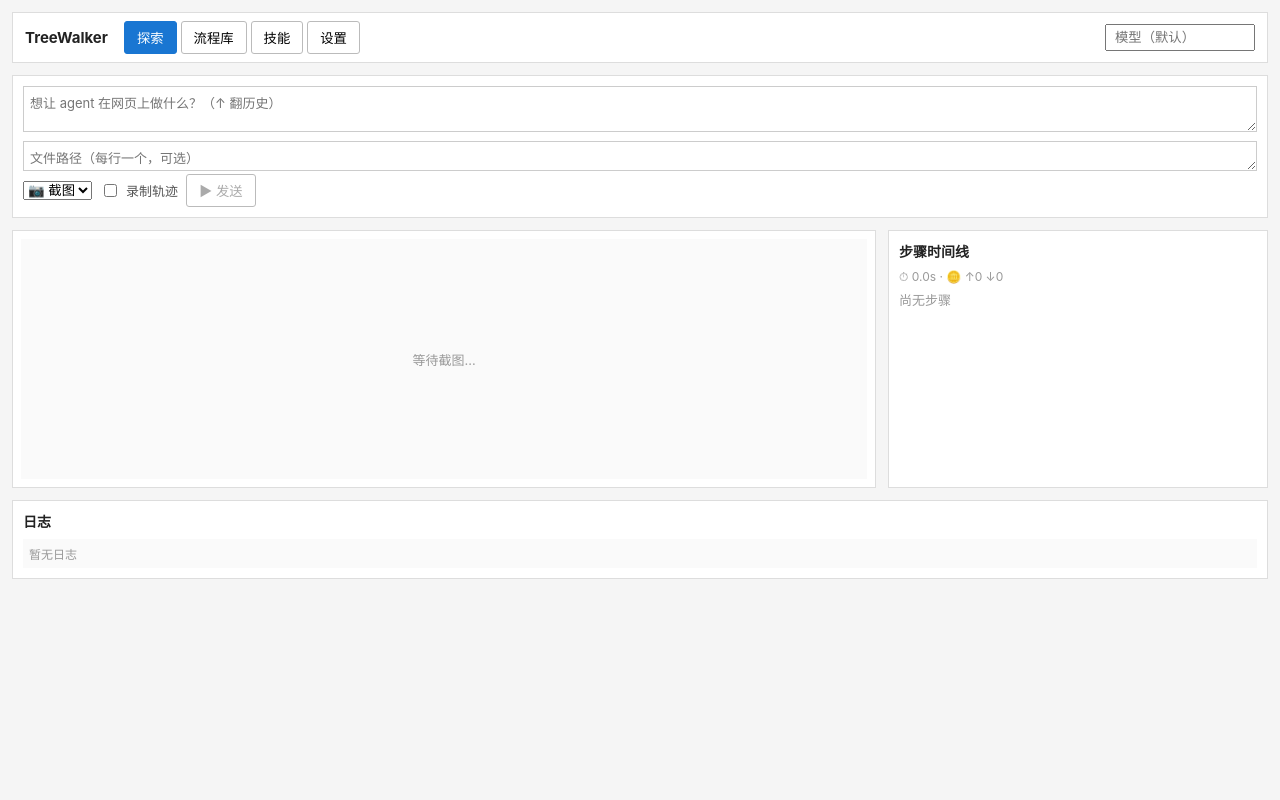
AppShell live 状态提升（T2 H M1） › 运行中切模式往返：RunView 状态保留 + SSE 重订 + 状态点可见且点击回运行视图
The image size is (1280, 800).
Step 1. Type "搜索猫" into the text box with placeholder "想让 agent 在网页上做什么？（↑ 翻历史）" → (640, 109), box [23, 86, 1257, 132]
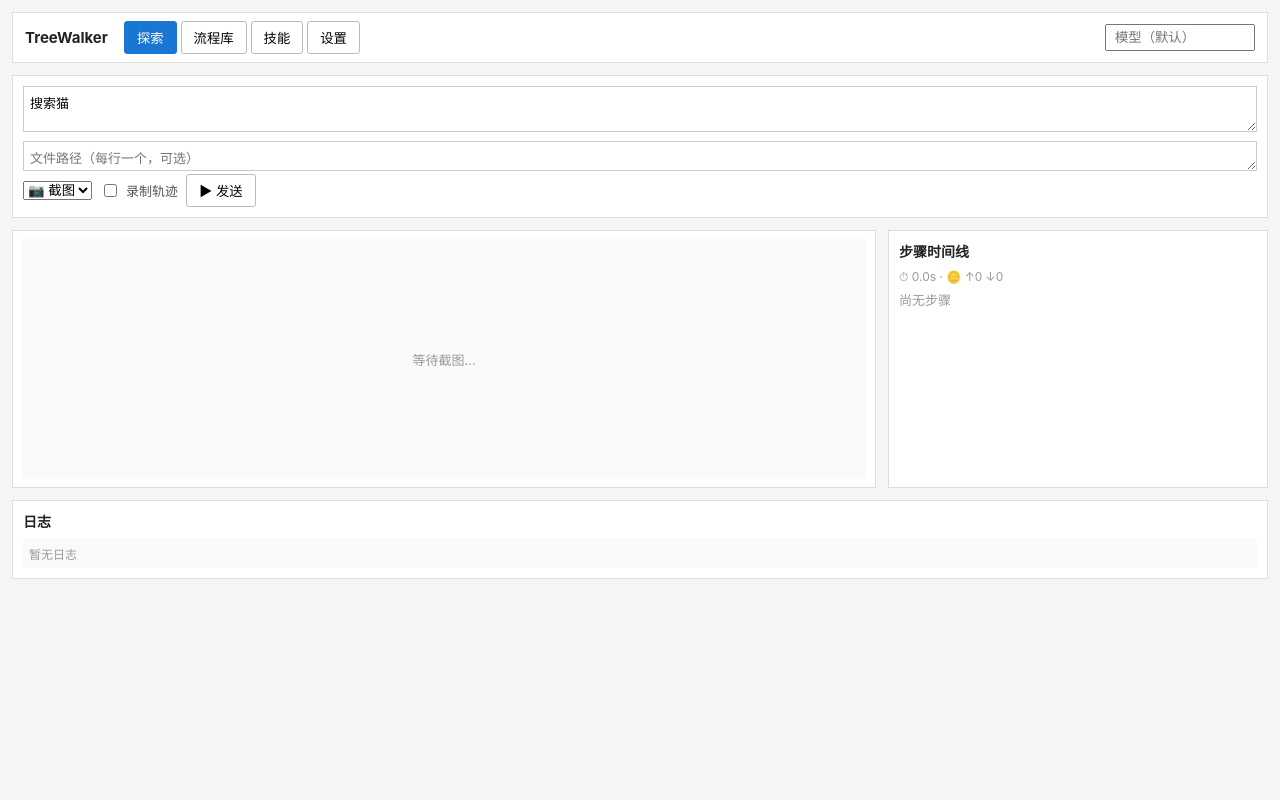
Step 2. Click the button "▶ 发送" → (221, 190), box [186, 174, 256, 207]
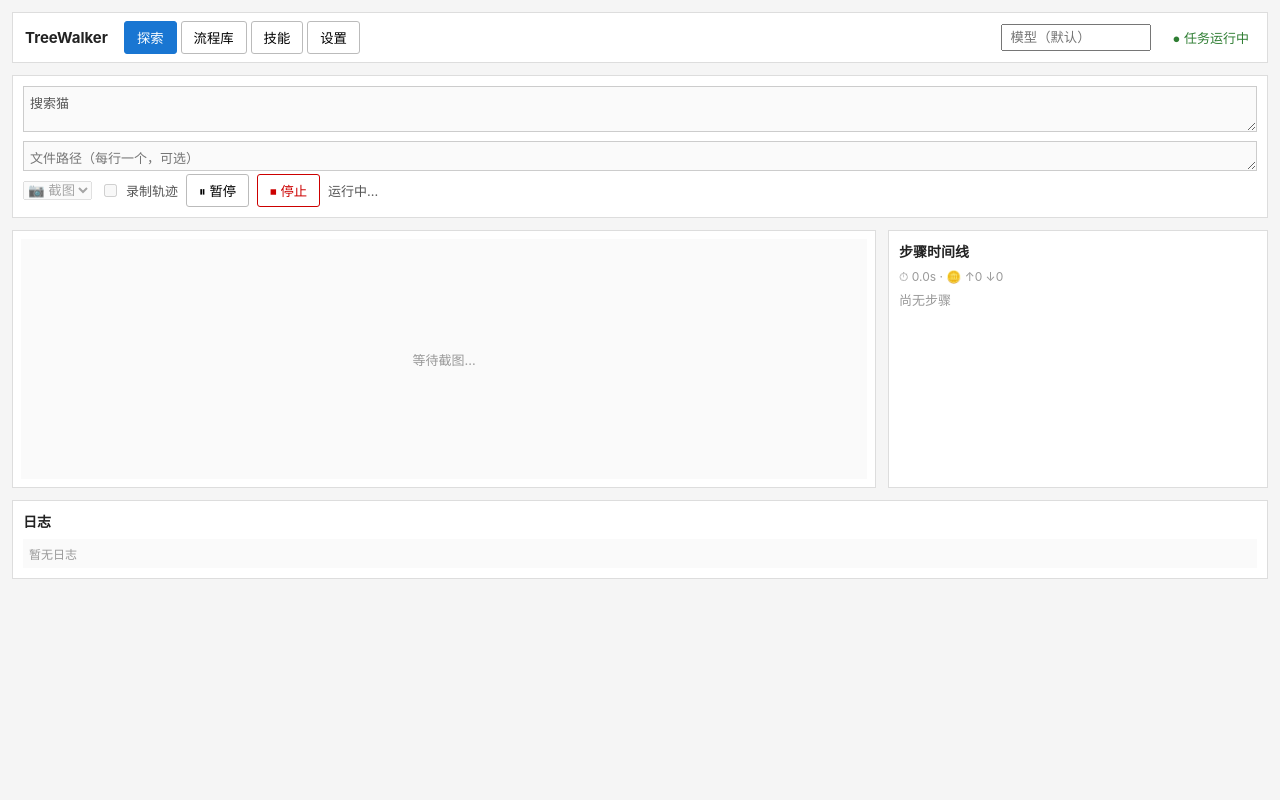
Step 3. Click the button "流程库" → (214, 38), box [181, 21, 247, 54]
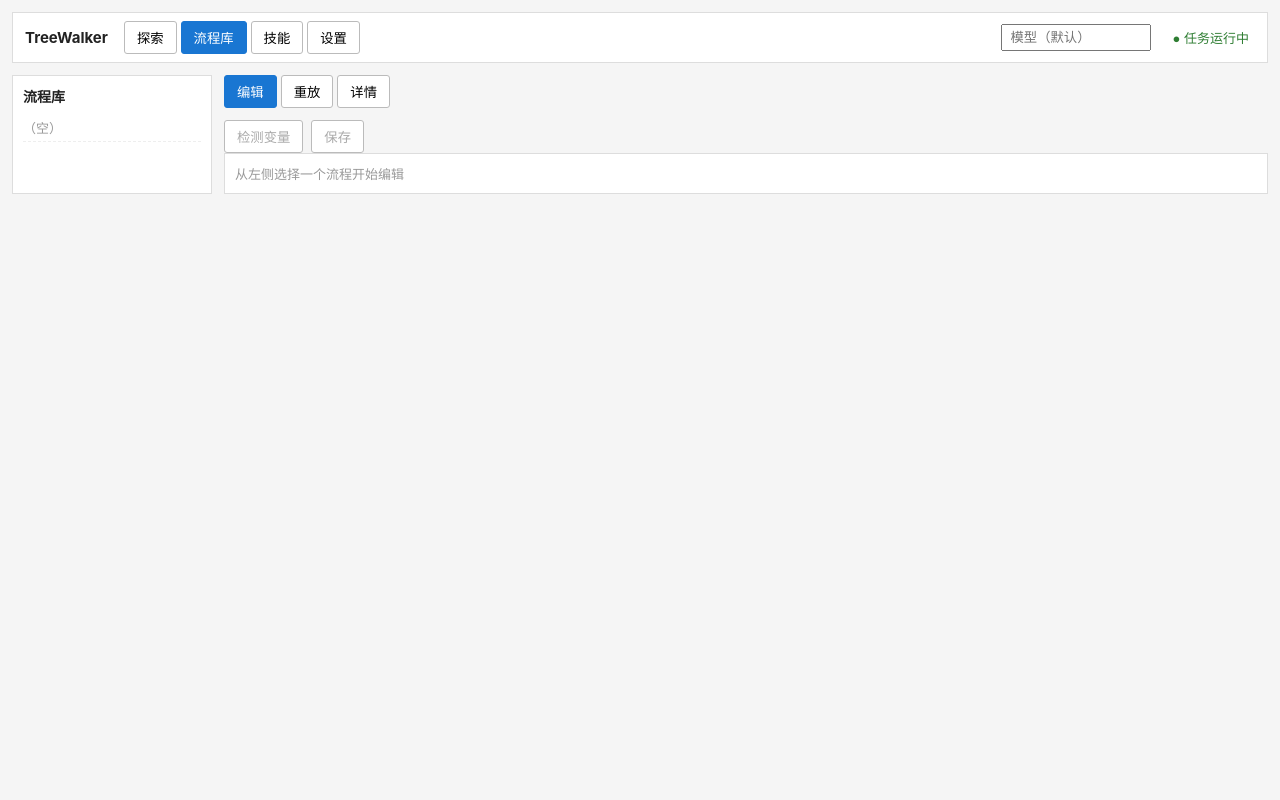
Result: the button "● 任务运行中" is shown at [1166, 24, 1255, 51]
Result: the text box is gone
Step 4. Click the button "探索" → (150, 38), box [124, 21, 177, 54]
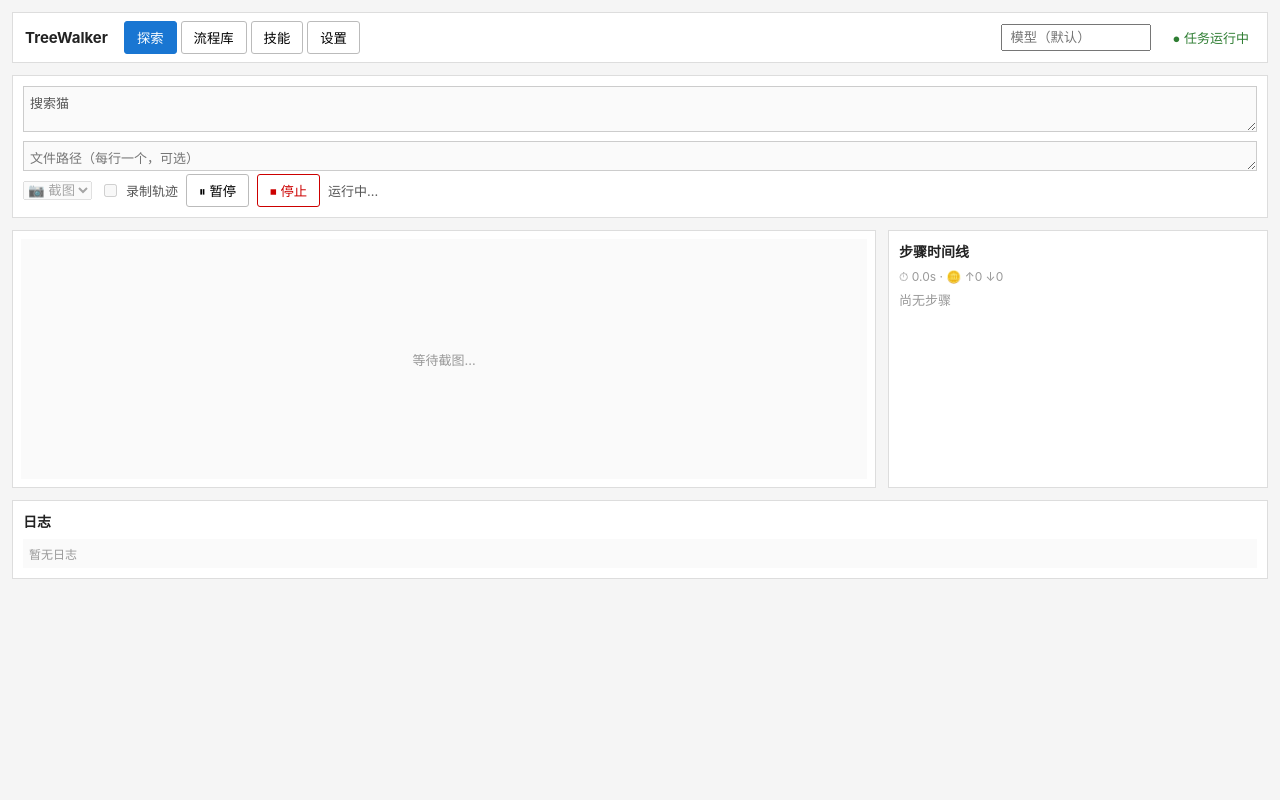
Result: the button "⏸ 暂停" is shown at [186, 174, 249, 207]
Step 5. Click the button "流程库" → (214, 38), box [181, 21, 247, 54]
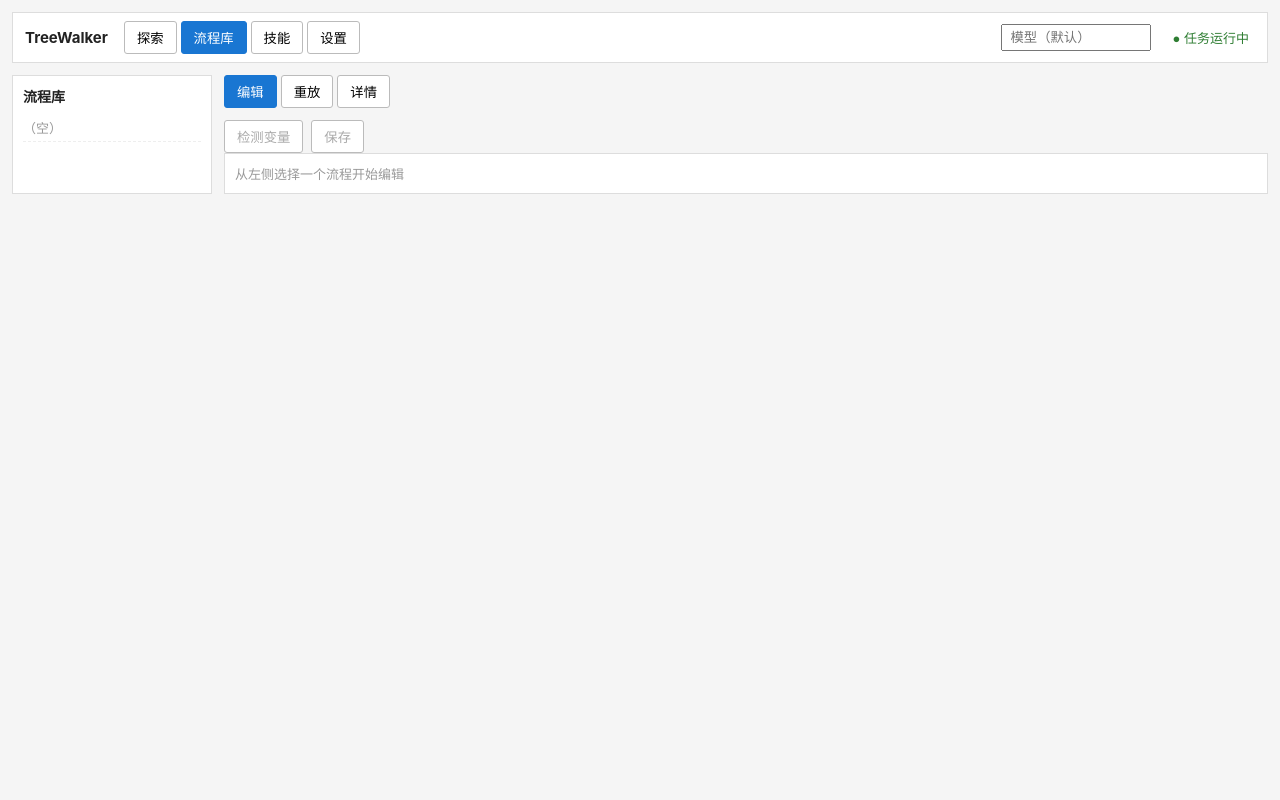
Step 6. Click the button "● 任务运行中" → (1211, 38), box [1166, 24, 1255, 51]
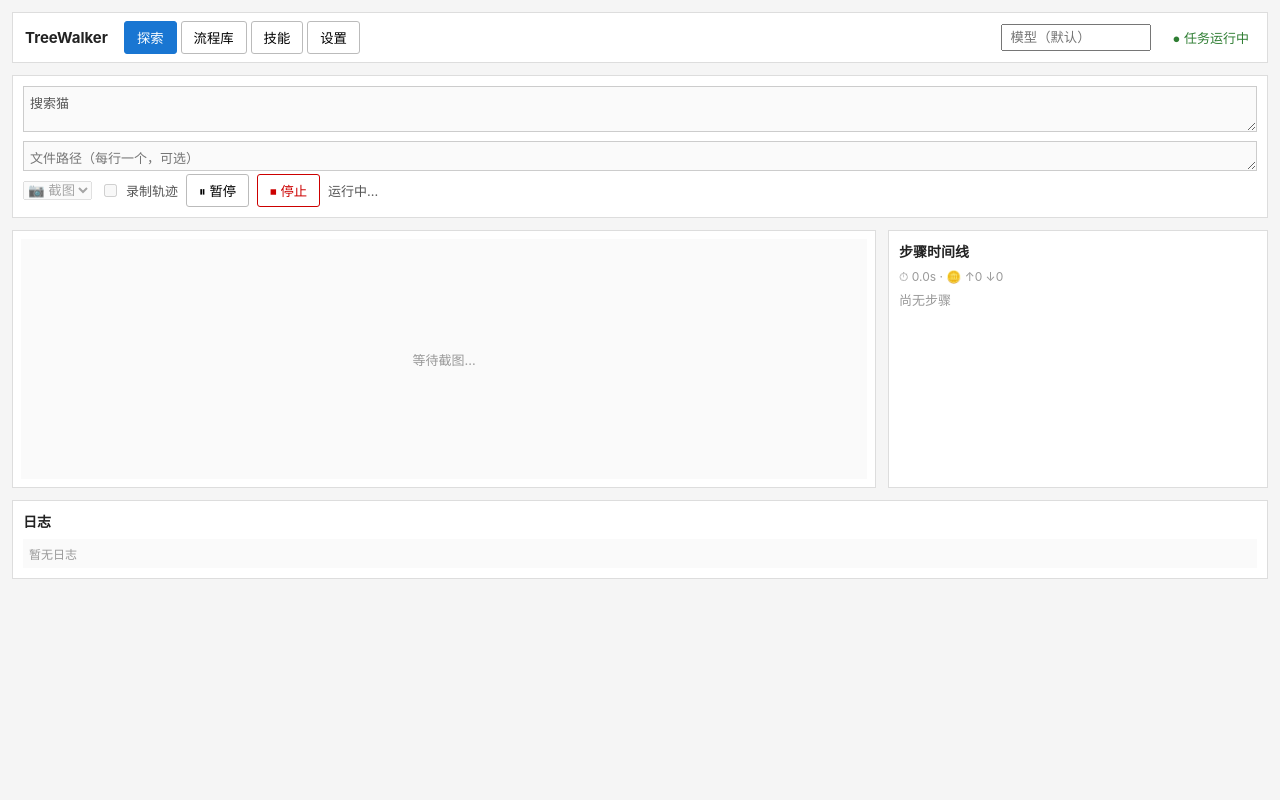
Result: the button "⏸ 暂停" is shown at [186, 174, 249, 207]
